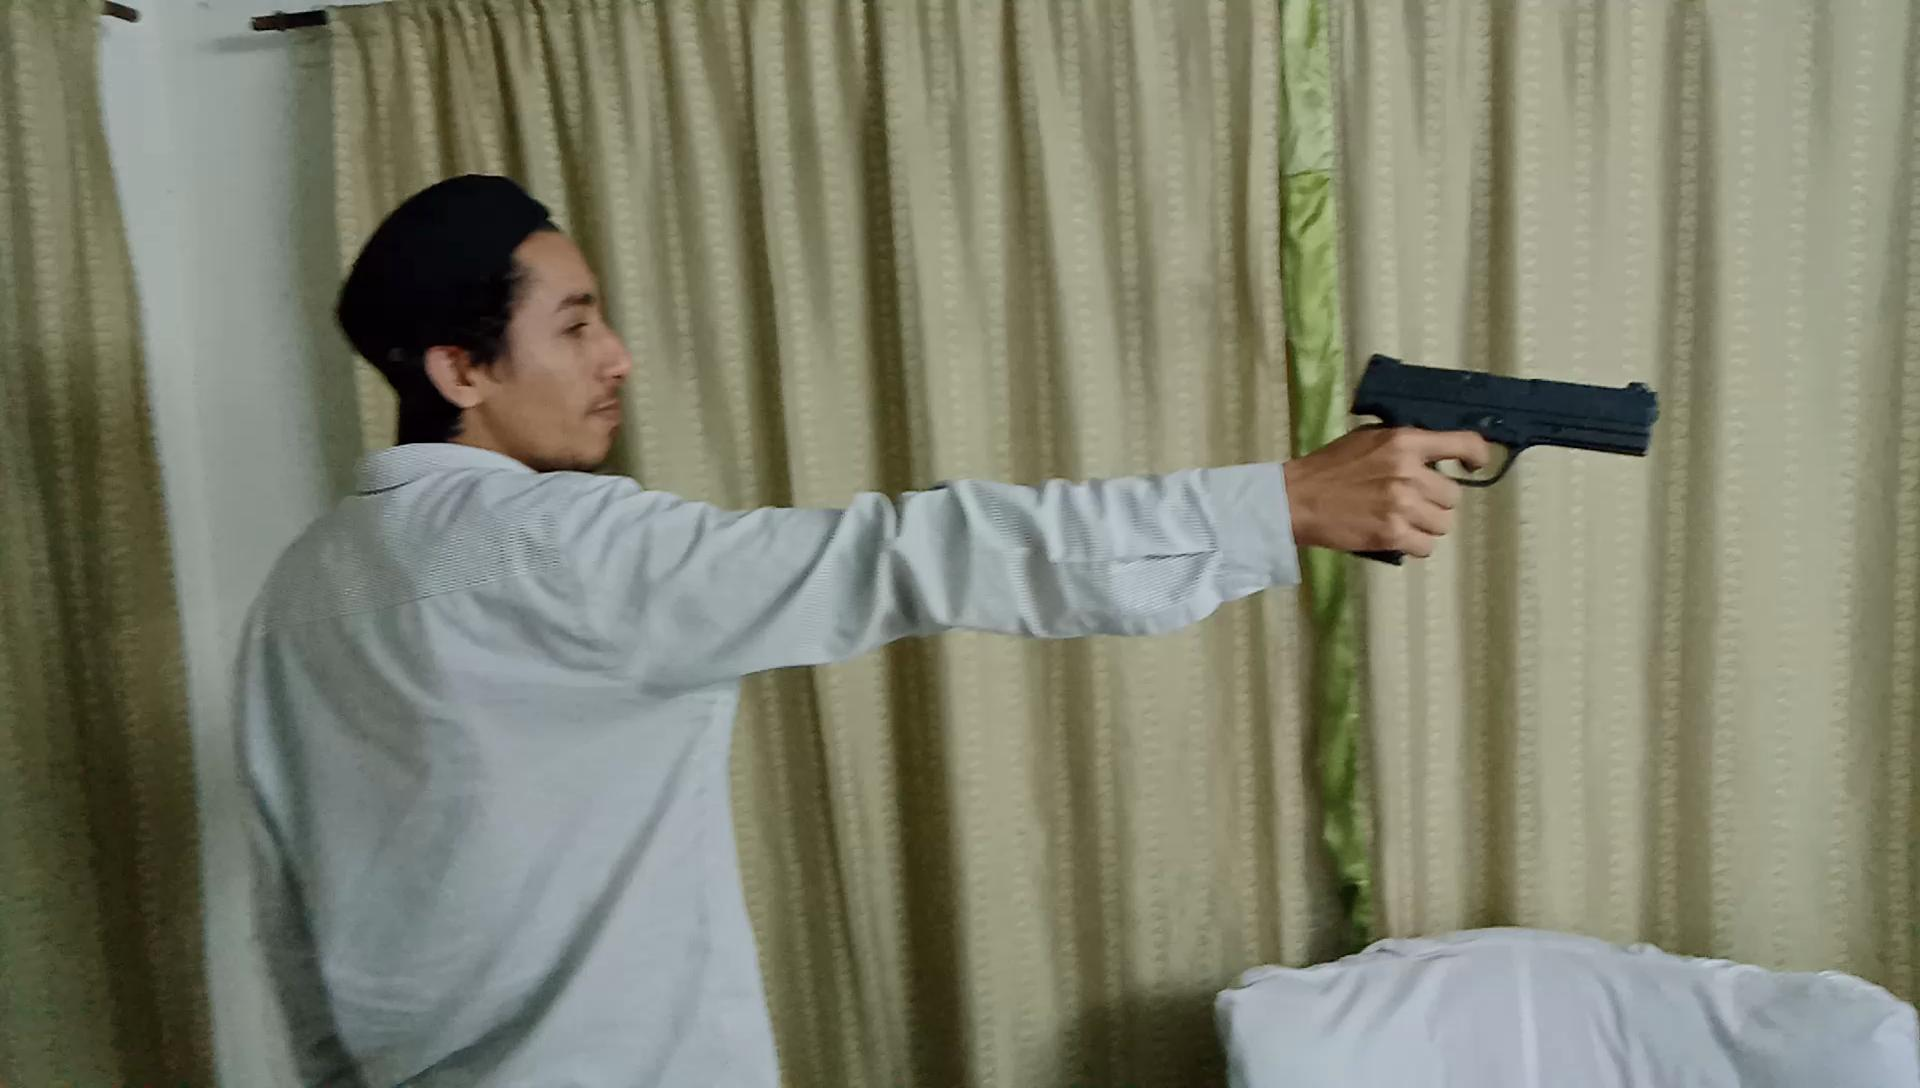criminal: (229, 171, 1665, 1088)
weapon: (1331, 348, 1665, 568)
